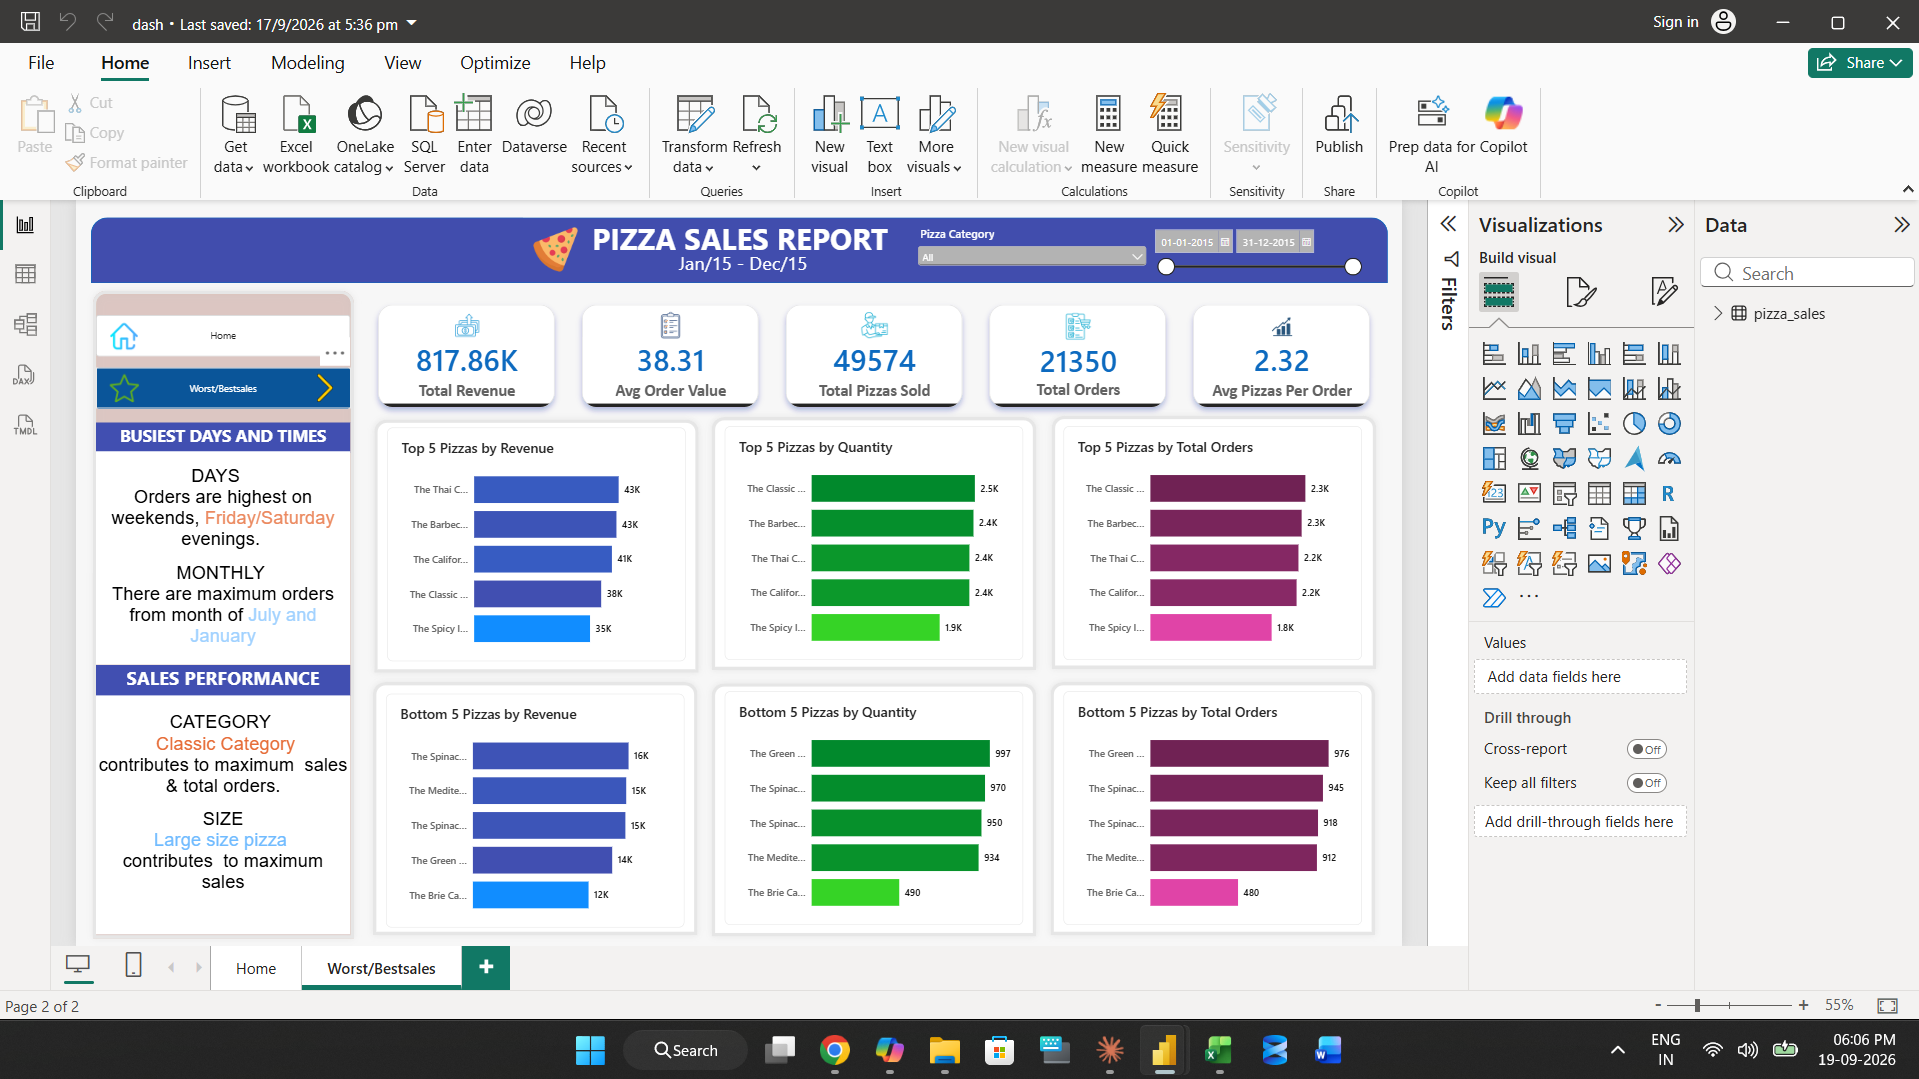

The dashboard page shown, as its layout file describes it:
{"tool":"powerbi","page":{"name":"Worst/Bestsales","canvas":[1920,1080],"ordinal":1},"visuals":[{"type":"cardVisual","fields":{"Data":["pizza_sales.Total Revenue","pizza_sales.Avg Order Value","pizza_sales.Total Pizzas Sold","pizza_sales.Total Orders","pizza_sales.Avg Pizzas Per Order"]},"box":[422,136,1468,180],"z":0},{"type":"shape","box":[22.5,25,1877.5,95],"z":1000},{"type":"textbox","box":[575,25,772.5,77.5],"z":2000},{"type":"textbox","box":[872.5,72.5,283.3,63.3],"z":3000},{"type":"image","box":[647.5,37.5,92.5,67.5],"z":4000},{"type":"shape","box":[422,308,490,386.7],"z":5000},{"type":"shape","box":[13.6,121.8,398,958],"z":6000},{"type":"textbox","box":[28.9,321.7,367.8,43],"z":7000},{"type":"textbox","box":[28.8,364.4,368.1,308.8],"z":8000},{"type":"textbox","box":[28,750,368,166],"z":9000},{"type":"textbox","box":[28.8,716.2,368.1,346.2],"z":10000},{"type":"textbox","box":[28.8,672.5,368,43.8],"z":11000},{"type":"slicer","fields":{"Values":["pizza_sales.pizza_category"]},"box":[1215,38.3,340,65],"z":12000},{"type":"slicer","fields":{"Values":["pizza_sales.order_date"]},"box":[1555,38.3,310,81.7],"z":13000},{"type":"shape","box":[1402,302,490,386.7],"z":14000},{"type":"shape","box":[910,304,490,386.7],"z":15000},{"type":"shape","box":[420,688.3,490,386.7],"z":16000},{"type":"shape","box":[1400,688,490,386.7],"z":17000},{"type":"shape","box":[910,690,490,386.7],"z":18000},{"type":"barChart","title":"Top 5 Pizzas by Revenue","fields":{"Category":["pizza_sales.pizza_name"],"Y":["pizza_sales.Total Revenue"]},"box":[450,330,432,338],"z":19000},{"type":"barChart","title":"Bottom 5 Pizzas by Revenue","fields":{"Category":["pizza_sales.pizza_name"],"Y":["pizza_sales.Total Revenue"]},"box":[448,714,432,338],"z":20000},{"type":"barChart","title":"Bottom 5 Pizzas by Quantity","fields":{"Category":["pizza_sales.pizza_name"],"Y":["pizza_sales.Total Pizzas Sold"]},"box":[940,712,432,338],"z":21000},{"type":"barChart","title":"Top 5 Pizzas by Quantity","fields":{"Category":["pizza_sales.pizza_name"],"Y":["pizza_sales.Total Pizzas Sold"]},"box":[940,328,432,338],"z":22000},{"type":"barChart","title":"Top 5 Pizzas by Total Orders","fields":{"Category":["pizza_sales.pizza_name"],"Y":["pizza_sales.Total Orders"]},"box":[1430,328,432,338],"z":23000},{"type":"barChart","title":"Bottom 5 Pizzas by Total Orders","fields":{"Category":["pizza_sales.pizza_name"],"Y":["pizza_sales.Total Orders"]},"box":[1430,712,432,338],"z":24000},{"type":"pageNavigator","box":[29.2,165.8,368.3,60],"z":25000},{"type":"pageNavigator","box":[29.2,241.7,368.3,60],"z":26000},{"type":"image","box":[48.3,249.2,42.5,45],"z":27000},{"type":"image","box":[35,177.5,70,40],"z":28000},{"type":"image","box":[326.4,250.9,70,40.9],"z":29000}]}

Visuals, with their boxes on the page's 1920x1080 design canvas (x1, y1, x2, y2). These are canvas units, not pixel positions in the 1919x1079 screenshot, which may show the page scaled, cropped or inside an application window:
cardVisual - pizza_sales.Total Revenue x pizza_sales.Avg Order Value: box(422, 136, 1890, 316)
shape: box(22, 25, 1900, 120)
textbox: box(575, 25, 1348, 102)
textbox: box(872, 72, 1156, 136)
image: box(648, 38, 740, 105)
shape: box(422, 308, 912, 695)
shape: box(14, 122, 412, 1080)
textbox: box(29, 322, 397, 365)
textbox: box(29, 364, 397, 673)
textbox: box(28, 750, 396, 916)
textbox: box(29, 716, 397, 1062)
textbox: box(29, 672, 397, 716)
slicer - pizza_sales.pizza_category: box(1215, 38, 1555, 103)
slicer - pizza_sales.order_date: box(1555, 38, 1865, 120)
shape: box(1402, 302, 1892, 689)
shape: box(910, 304, 1400, 691)
shape: box(420, 688, 910, 1075)
shape: box(1400, 688, 1890, 1075)
shape: box(910, 690, 1400, 1077)
"Top 5 Pizzas by Revenue" barChart: box(450, 330, 882, 668)
"Bottom 5 Pizzas by Revenue" barChart: box(448, 714, 880, 1052)
"Bottom 5 Pizzas by Quantity" barChart: box(940, 712, 1372, 1050)
"Top 5 Pizzas by Quantity" barChart: box(940, 328, 1372, 666)
"Top 5 Pizzas by Total Orders" barChart: box(1430, 328, 1862, 666)
"Bottom 5 Pizzas by Total Orders" barChart: box(1430, 712, 1862, 1050)
pageNavigator: box(29, 166, 398, 226)
pageNavigator: box(29, 242, 398, 302)
image: box(48, 249, 91, 294)
image: box(35, 178, 105, 218)
image: box(326, 251, 396, 292)
